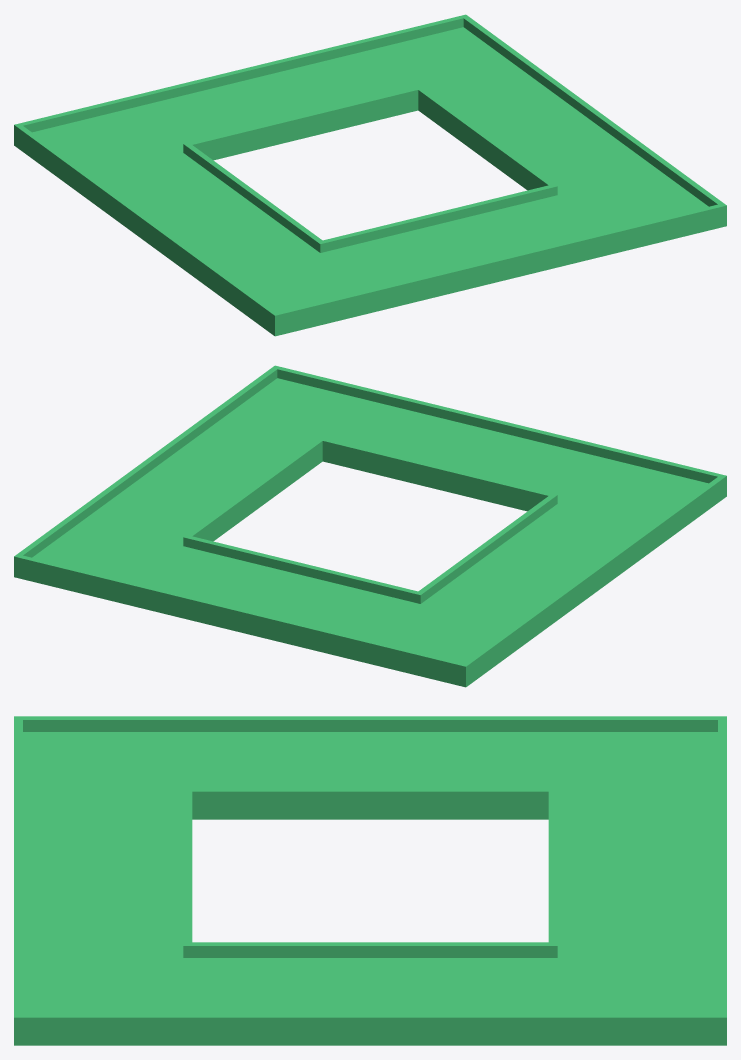
The model's file is road.fbx.
The picture shows the model from 3 angles, top to bottom: view 1: azimuth 30°, elevation 25°; view 2: azimuth 150°, elevation 25°; view 3: azimuth 270°, elevation 25°; orthographic projection. The views are drawn at different scales.
Visible parts, largest first — view 1: Road; view 2: Road; view 3: Road.
Part boxes in pixels (x1,y1,x2,y2): Road: [14, 14, 726, 336]; Road: [14, 365, 726, 687]; Road: [14, 716, 726, 1045].
Size of the model in its own units: 8000 by 350 by 8000.
